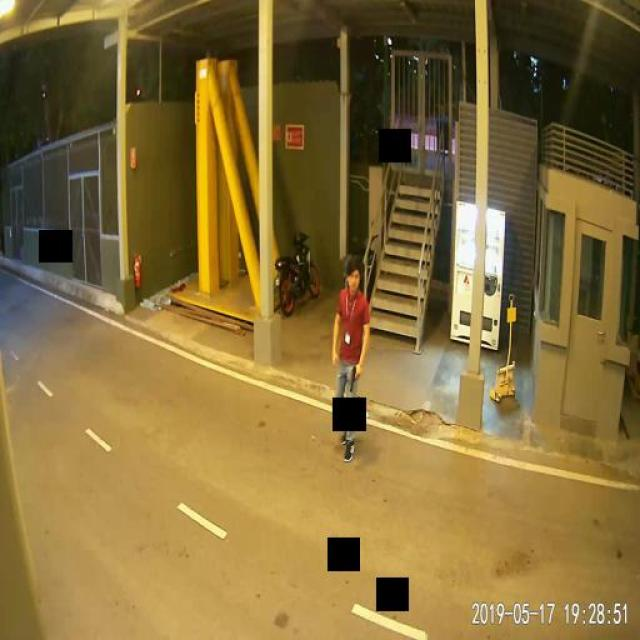gun: (348, 363, 360, 388)
